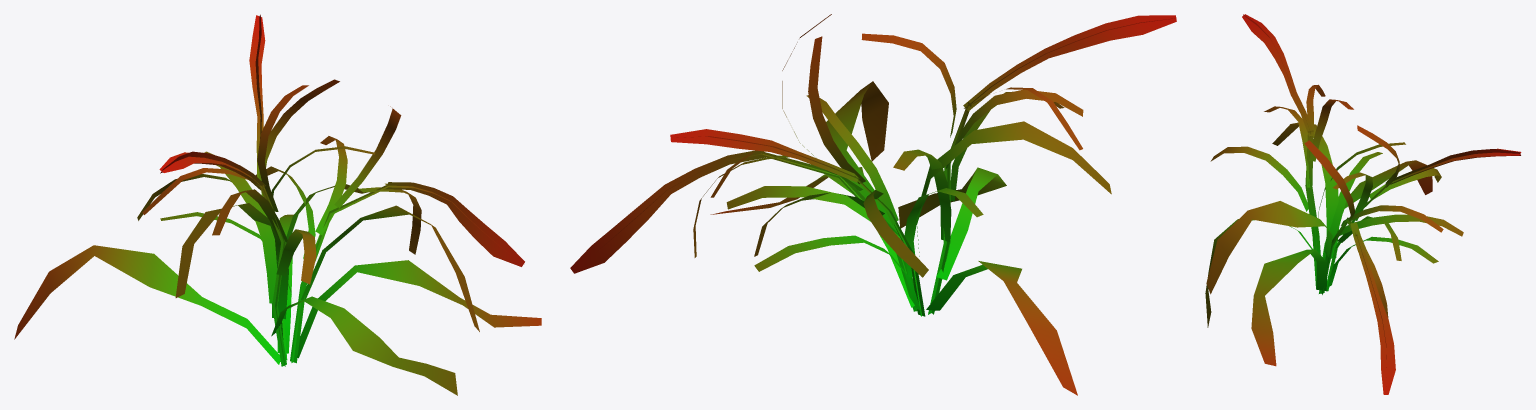
The model's file is Great Brome_LOD2_Var3_tjugaikia.fbx.
The picture shows the model from 3 angles, left to right: view 1: azimuth 30°, elevation 25°; view 2: azimuth 150°, elevation 25°; view 3: azimuth 270°, elevation 25°; orthographic projection. The views are drawn at different scales.
Parts seen in each view (by area): view 1: _f69f_Var3_LOD2; view 2: _f69f_Var3_LOD2; view 3: _f69f_Var3_LOD2.
Boxes of the visible parts, bbox=[...] form: _f69f_Var3_LOD2: bbox=[14, 14, 541, 395]; _f69f_Var3_LOD2: bbox=[570, 14, 1176, 395]; _f69f_Var3_LOD2: bbox=[1205, 14, 1521, 394].
Size of the model in its own units: 55.87 by 30.42 by 40.96.
